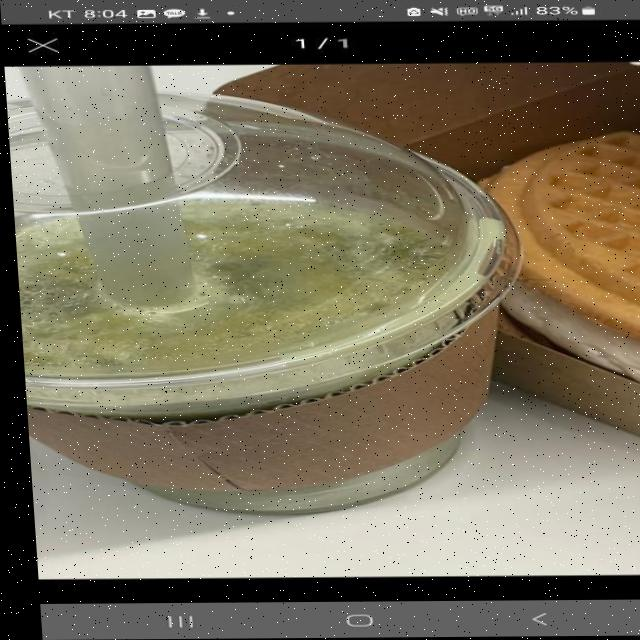cup: (6, 102, 638, 524)
